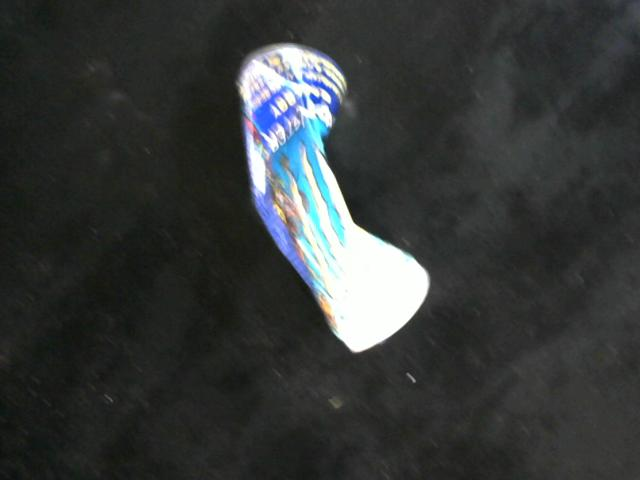can: (232, 37, 434, 357)
